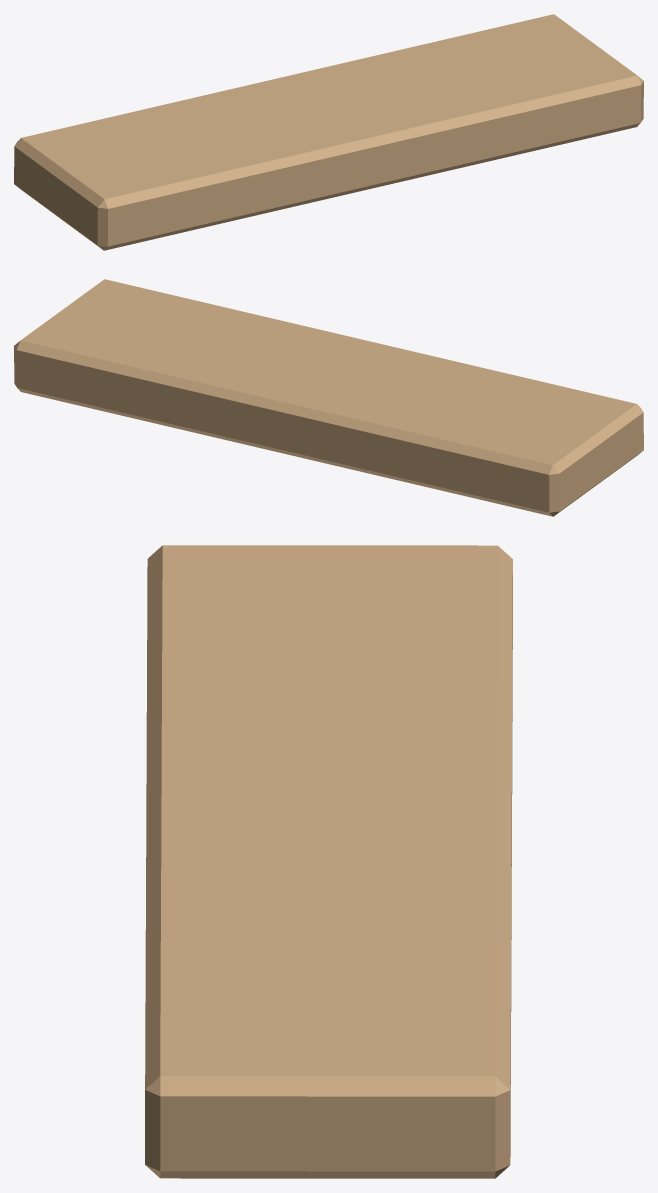
The model's file is ponte_tabua_0.fbx.
3 views of the same model, one above another, from view 1: azimuth 30°, elevation 25°; view 2: azimuth 150°, elevation 25°; view 3: azimuth 270°, elevation 25° (orthographic). The views are drawn at different scales.
Parts seen in each view (by area): view 1: ponte_tabua_0~Tábua@wood; view 2: ponte_tabua_0~Tábua@wood; view 3: ponte_tabua_0~Tábua@wood.
Boxes of the visible parts, x1,y1,x2,y2 form: ponte_tabua_0~Tábua@wood: [14, 14, 643, 250]; ponte_tabua_0~Tábua@wood: [14, 279, 643, 516]; ponte_tabua_0~Tábua@wood: [145, 545, 512, 1178].
Bounding box in the file's own units: 1 × 0.0999 × 0.2919.
